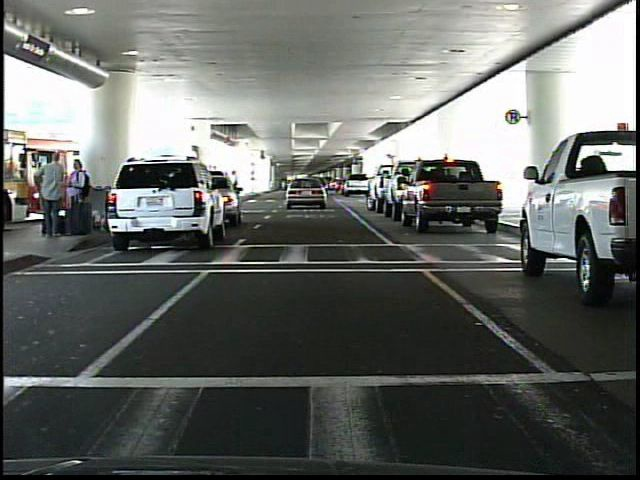person: (38, 152, 68, 240), (65, 156, 92, 240)
